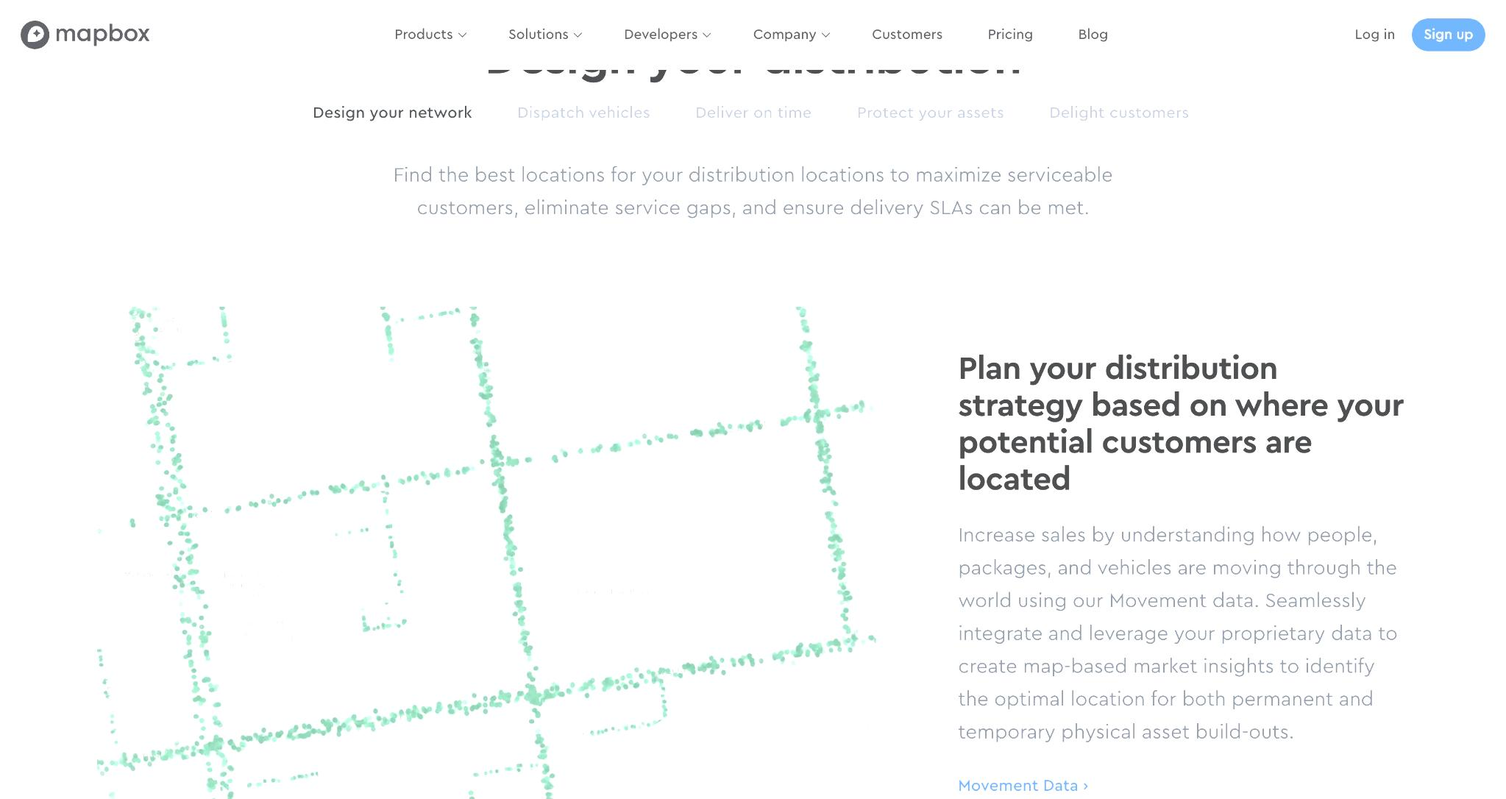webelement: (97, 306, 876, 799), (209, 153, 635, 515), (958, 518, 1409, 747), (342, 158, 1163, 223), (373, 0, 1132, 69), (709, 153, 874, 380), (804, 125, 901, 371), (745, 93, 841, 338), (209, 183, 498, 259), (209, 505, 498, 581), (512, 165, 717, 257), (538, 244, 785, 320), (538, 320, 785, 396), (538, 396, 785, 472), (538, 472, 785, 548), (209, 121, 498, 182), (209, 259, 498, 320), (209, 320, 498, 381), (778, 453, 964, 545), (827, 121, 1047, 197), (827, 197, 1047, 273), (827, 349, 1047, 425), (827, 478, 1047, 554), (827, 273, 1047, 348), (1088, 121, 1295, 197), (1088, 197, 1295, 273), (1088, 503, 1295, 579), (208, 212, 413, 288), (430, 212, 635, 288), (208, 288, 413, 364), (430, 288, 635, 364), (208, 440, 413, 516), (430, 440, 635, 516), (512, 258, 717, 334), (208, 365, 413, 440), (430, 365, 635, 440), (512, 334, 717, 409), (538, 121, 785, 182), (538, 183, 785, 244), (1026, 165, 1221, 241), (1026, 241, 1221, 317), (778, 165, 964, 241), (778, 376, 964, 452), (778, 301, 964, 376), (1088, 273, 1295, 334), (1088, 388, 1295, 449), (709, 228, 874, 304), (709, 305, 874, 381), (709, 153, 873, 228), (430, 153, 635, 212), (778, 241, 964, 300), (245, 486, 409, 544), (291, 89, 496, 134), (599, 63, 906, 93), (836, 89, 1029, 134), (1029, 89, 1213, 134), (497, 89, 675, 134), (851, 1, 966, 67), (674, 89, 836, 134), (245, 165, 409, 206), (245, 206, 409, 247), (245, 329, 409, 370), (245, 248, 409, 288), (245, 289, 409, 329), (967, 1, 1057, 67), (1058, 1, 1132, 67), (245, 379, 409, 403), (20, 19, 151, 48), (512, 424, 608, 461), (621, 424, 713, 461), (804, 125, 901, 156), (804, 217, 894, 248), (745, 185, 834, 215), (804, 187, 891, 217), (745, 154, 831, 184), (1412, 18, 1485, 50), (804, 279, 876, 309), (745, 247, 816, 277), (958, 777, 1088, 793), (804, 248, 870, 278), (745, 216, 810, 246), (745, 308, 798, 338), (804, 341, 857, 371), (804, 156, 854, 187), (748, 103, 843, 119), (745, 123, 795, 153), (248, 103, 337, 119), (1355, 19, 1395, 49), (804, 310, 838, 340), (745, 277, 778, 307), (343, 379, 353, 403), (1082, 773, 1087, 797)
